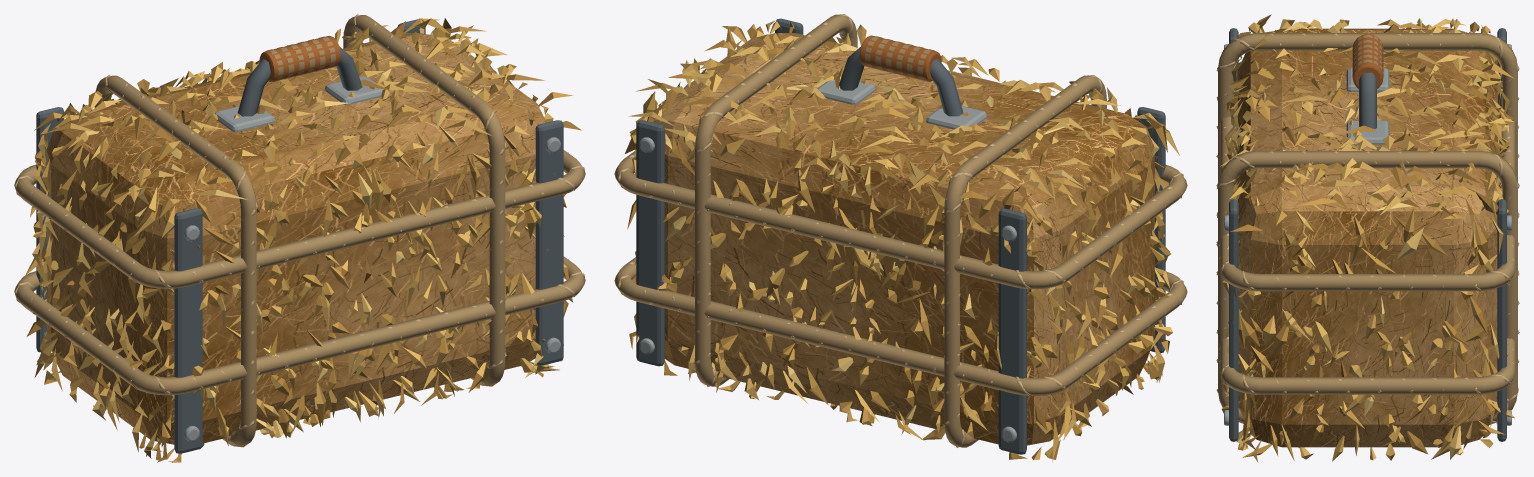
The model's file is wsc-prop-029-straw-bale-target.glb.
The picture shows the model from 3 angles, left to right: view 1: azimuth 30°, elevation 25°; view 2: azimuth 150°, elevation 25°; view 3: azimuth 270°, elevation 25°; orthographic projection. The views are drawn at different scales.
Parts seen in each view (by area): view 1: wsc-prop-029-straw-bale-target; view 2: wsc-prop-029-straw-bale-target; view 3: wsc-prop-029-straw-bale-target.
Part boxes in pixels (<box>): wsc-prop-029-straw-bale-target: <box>14,14,585,462</box>; wsc-prop-029-straw-bale-target: <box>614,14,1187,462</box>; wsc-prop-029-straw-bale-target: <box>1216,14,1519,462</box>.
Size of the model in its own units: 1.38 by 0.9668 by 0.828.
12 materials, 1 textured.
